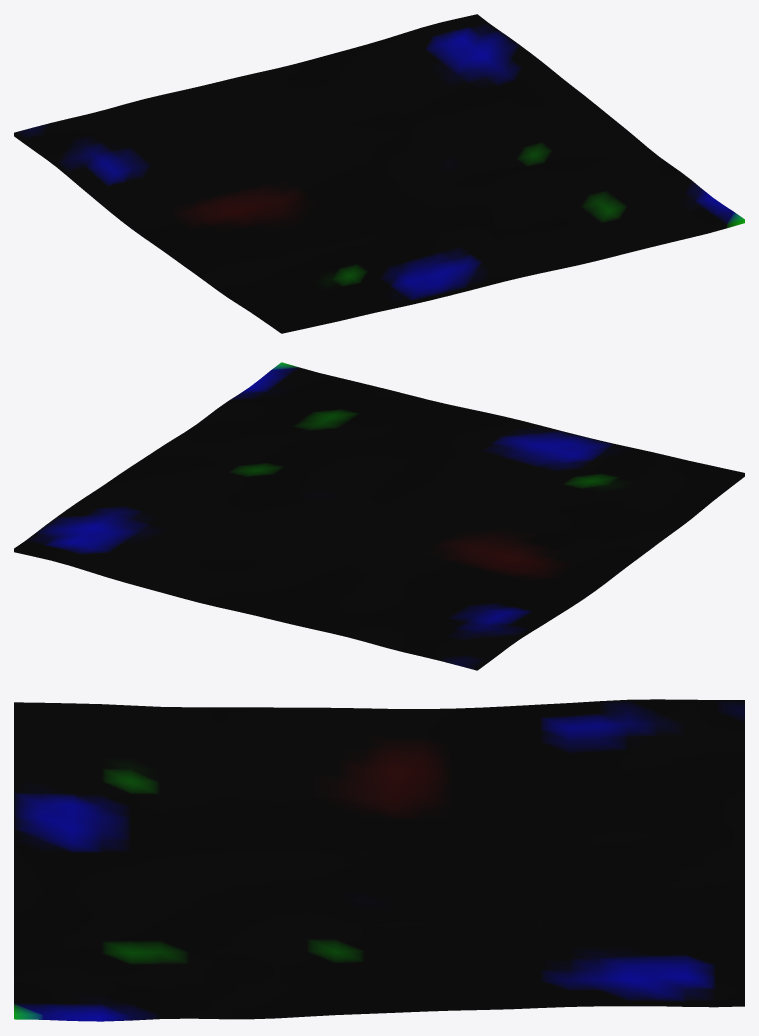
Rendered from coast_13_7.glb.
3 views of the same model, one above another, from view 1: azimuth 30°, elevation 25°; view 2: azimuth 150°, elevation 25°; view 3: azimuth 270°, elevation 25° (orthographic). The views are drawn at different scales.
Parts seen in each view (by area): view 1: terrain; view 2: terrain; view 3: terrain.
Part boxes in pixels (bbox=[...]): terrain: bbox=[14, 14, 744, 333]; terrain: bbox=[14, 362, 744, 670]; terrain: bbox=[14, 699, 744, 1021].
Bounding box in the file's own units: 200 × 6.75 × 200.
